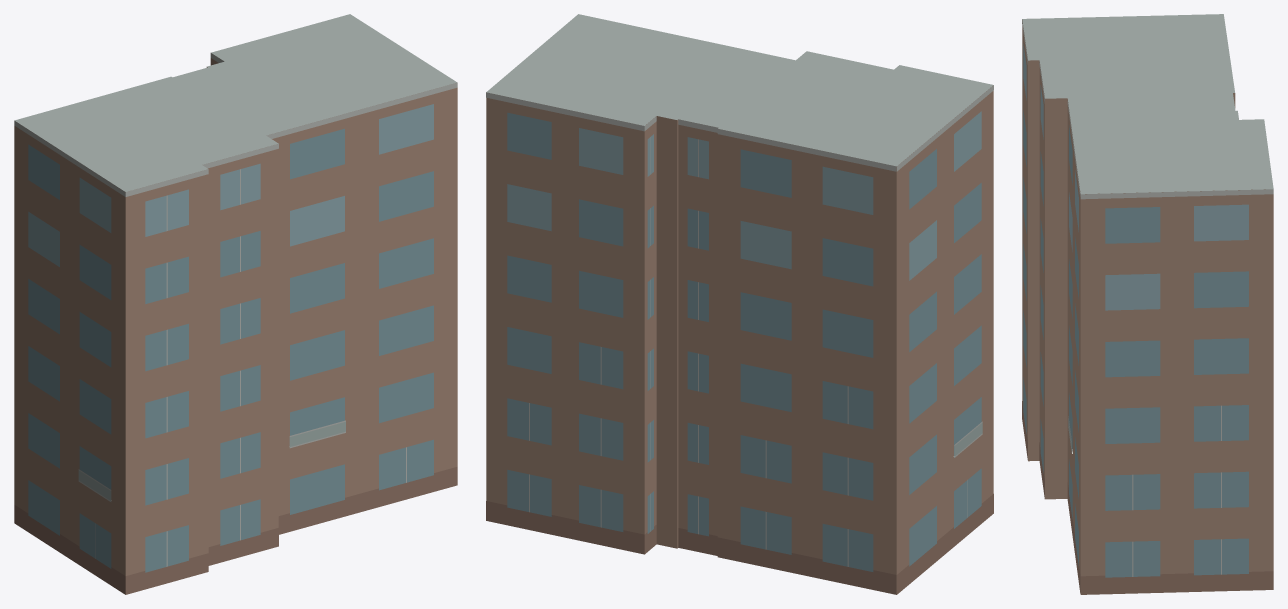
Rendered from survey-upis-32632444.glb.
3 renders of one model, left to right at view 1: azimuth 30°, elevation 25°; view 2: azimuth 150°, elevation 25°; view 3: azimuth 270°, elevation 25°, orthographic. The views are drawn at different scales.
Visible parts, largest first — view 1: survey-upis-32632444.tmp; view 2: survey-upis-32632444.tmp; view 3: survey-upis-32632444.tmp.
Part boxes in pixels (x1,y1,x2,y2): survey-upis-32632444.tmp: (14, 14, 457, 594); survey-upis-32632444.tmp: (486, 14, 993, 594); survey-upis-32632444.tmp: (1022, 14, 1273, 594).
Size of the model in its own units: 18.73 by 19.4 by 11.04.
